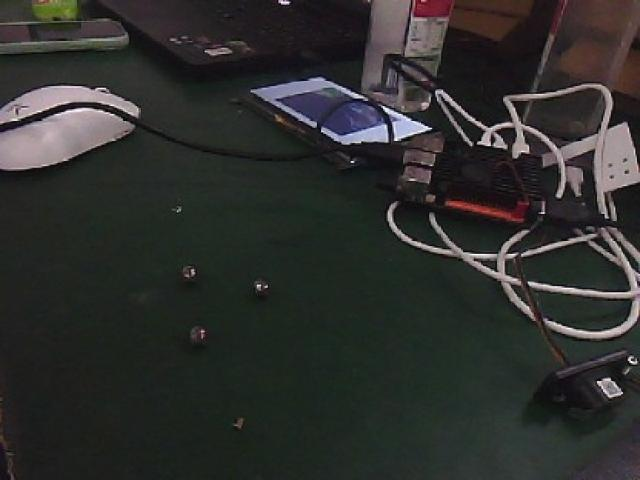steel-ball: (178, 301, 212, 348), (175, 256, 211, 290), (240, 266, 275, 297)
